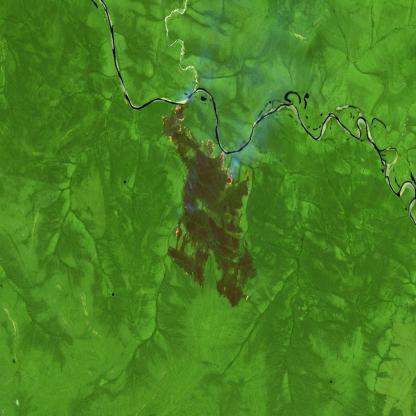fire: (158, 100, 251, 240)
